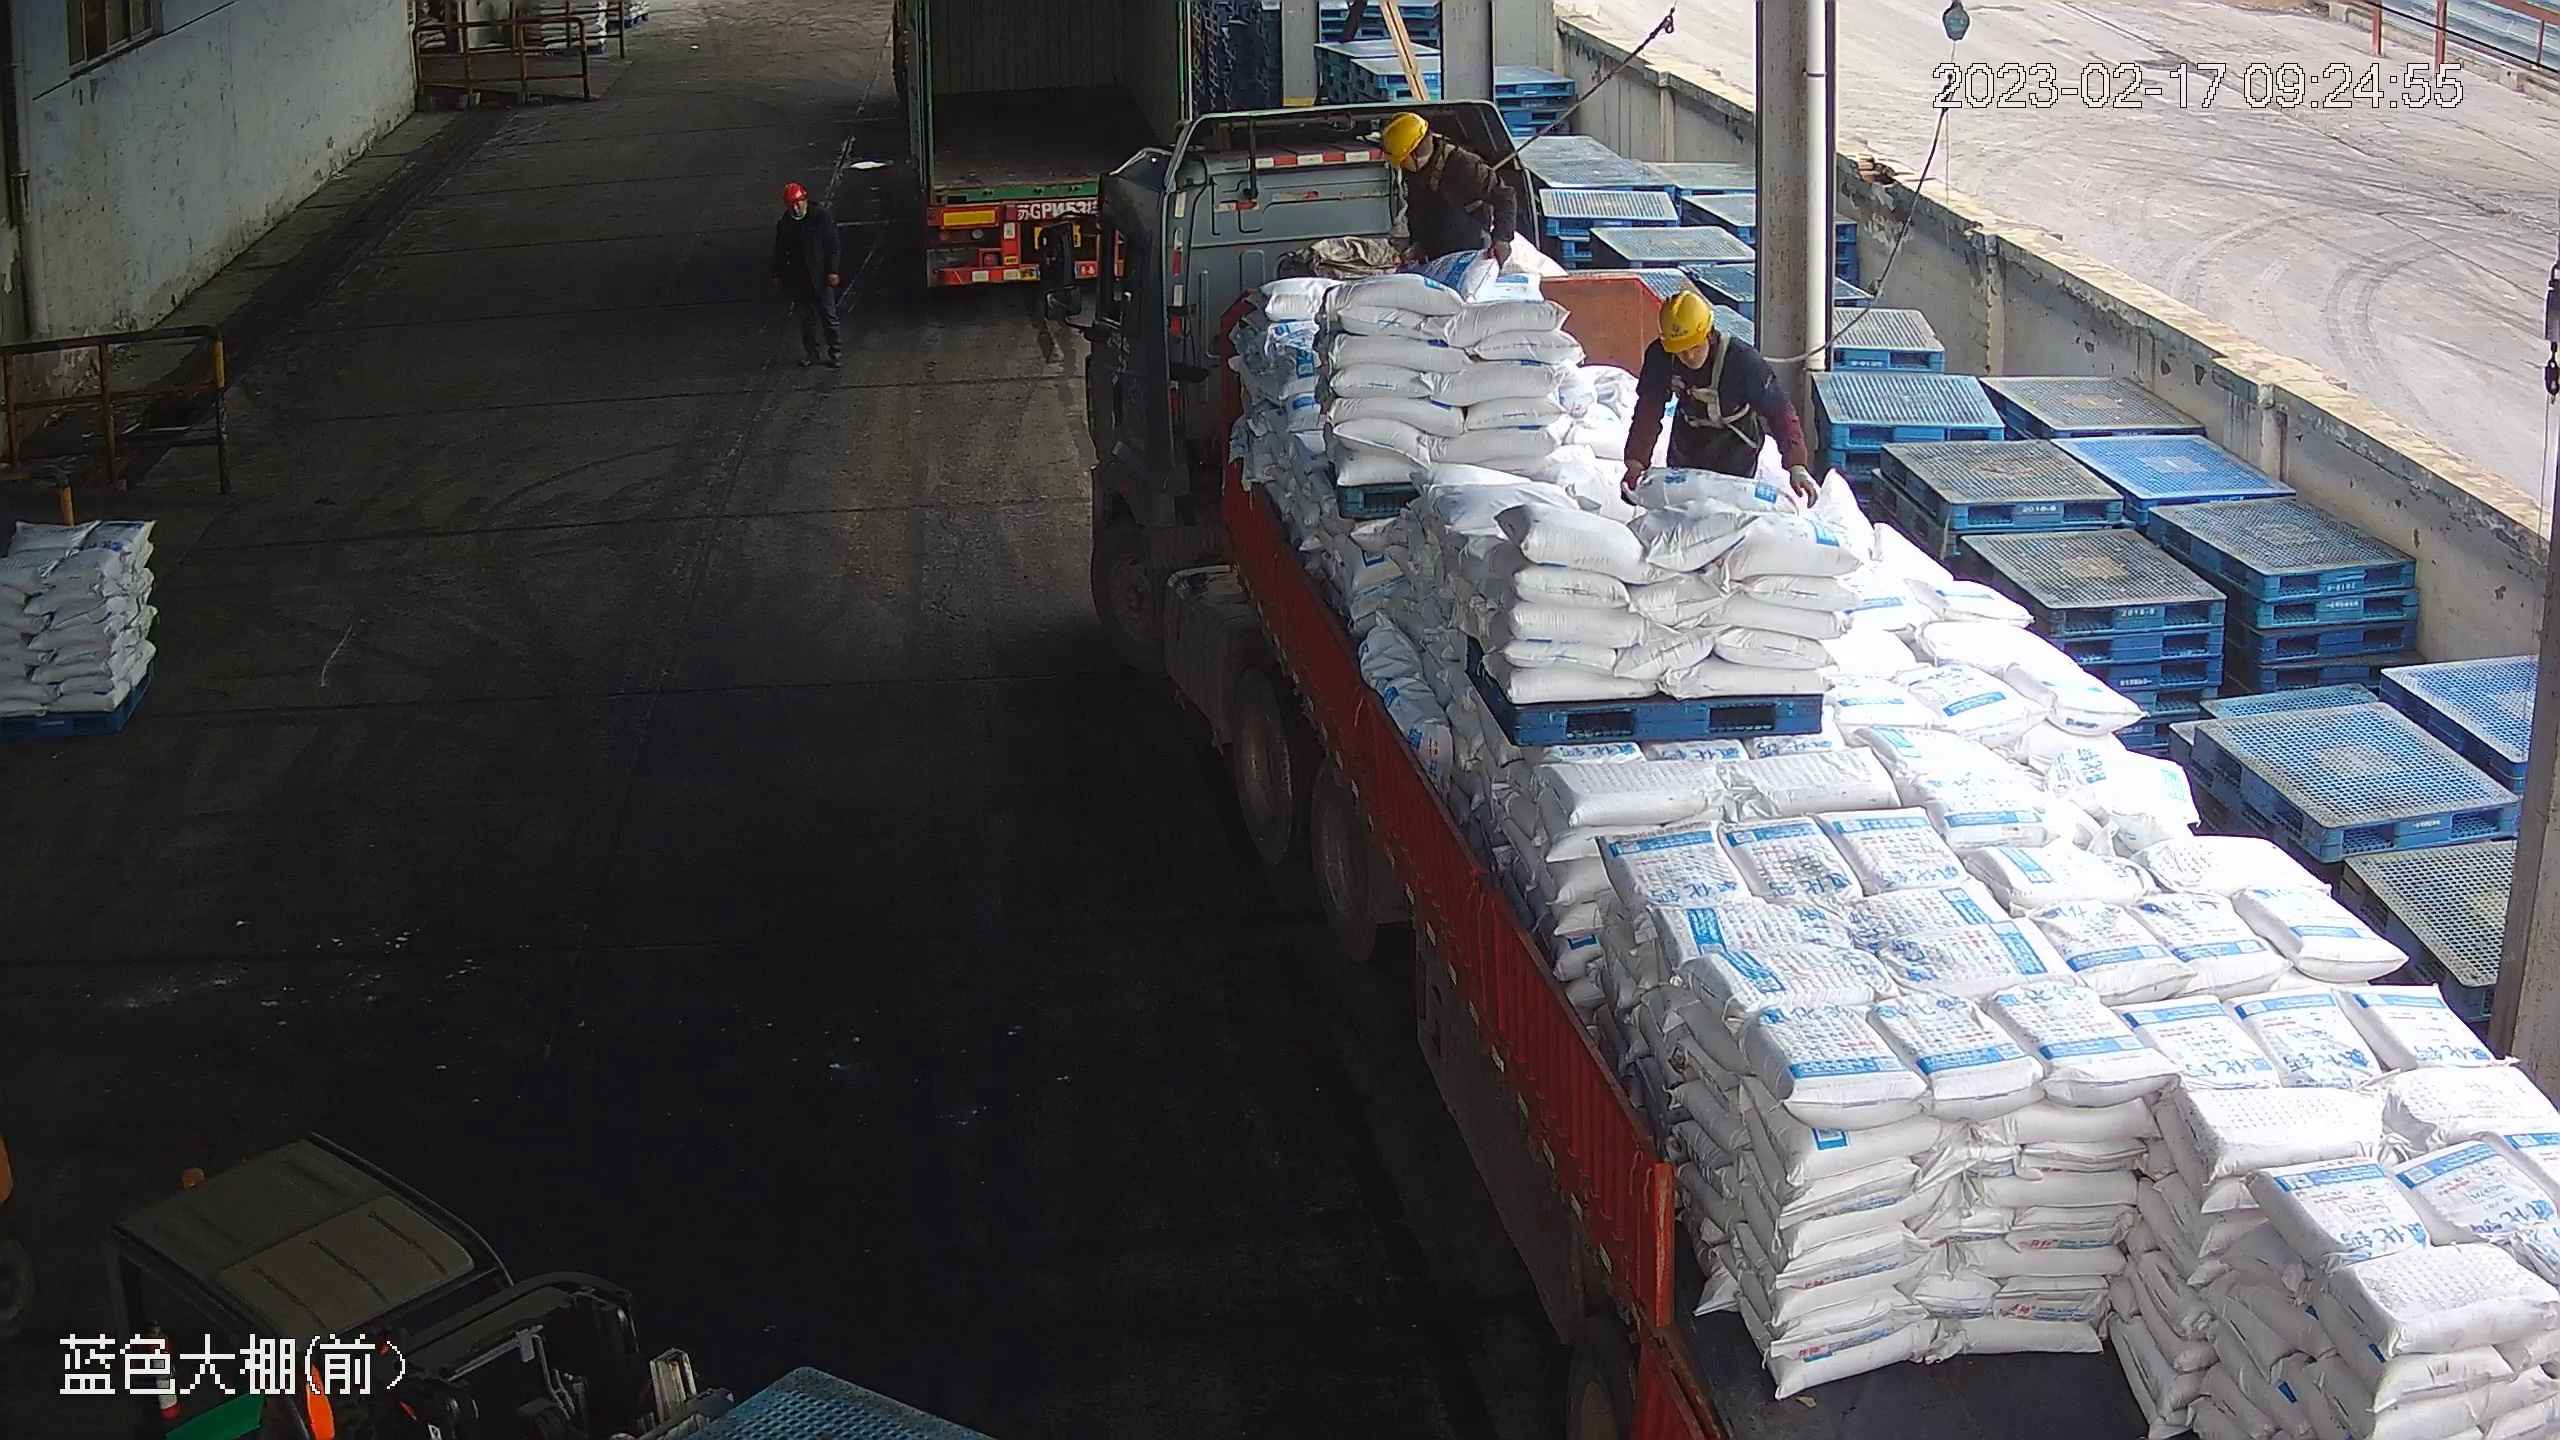belt: (1673, 350, 1745, 433), (1424, 139, 1494, 192)
head: (1640, 289, 1760, 386), (1382, 111, 1482, 196), (769, 177, 826, 236)
helmet: (1653, 286, 1712, 355), (1381, 110, 1428, 162), (778, 178, 807, 201)
people: (1617, 287, 1821, 509), (1379, 109, 1517, 278), (768, 176, 843, 370)
truck: (1040, 150, 2556, 1440), (857, 1, 1194, 297)
